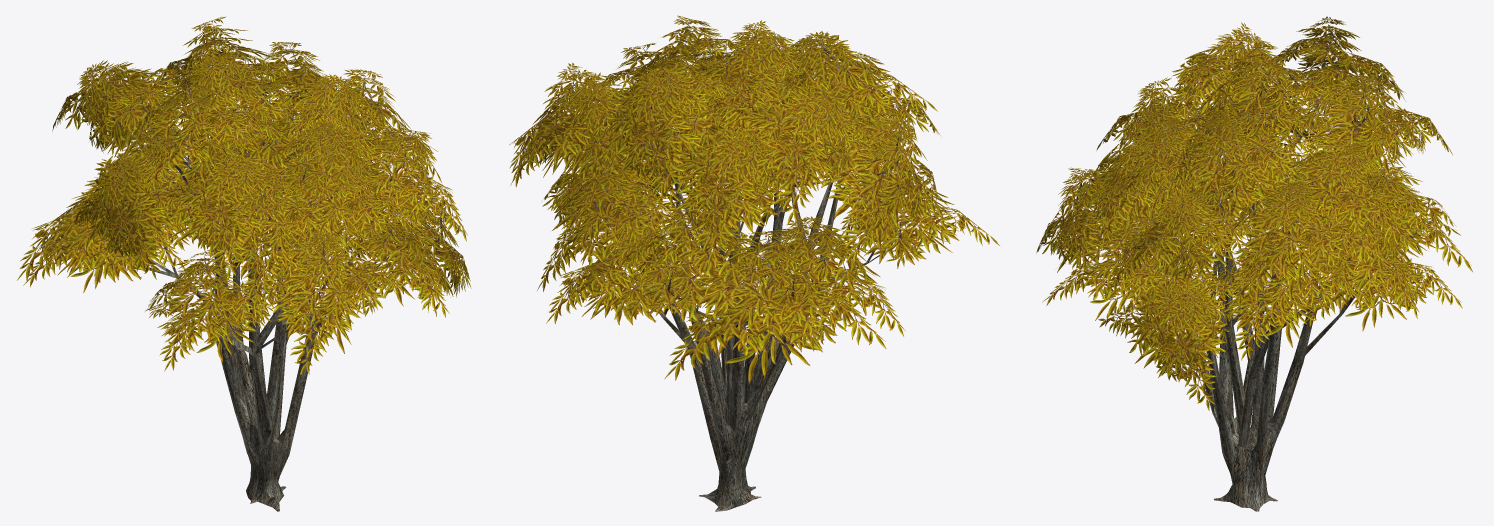
Rendered from tree3.gltf.
3 renders of one model, left to right at view 1: azimuth 30°, elevation 25°; view 2: azimuth 150°, elevation 25°; view 3: azimuth 270°, elevation 25°, orthographic. The views are drawn at different scales.
Parts seen in each view (by area): view 1: Tr-户外植物14A_01; view 2: Tr-户外植物14A_01; view 3: Tr-户外植物14A_01.
Part boxes in pixels (bbox=[...]): Tr-户外植物14A_01: bbox=[17, 16, 471, 511]; Tr-户外植物14A_01: bbox=[509, 15, 999, 511]; Tr-户外植物14A_01: bbox=[1036, 16, 1472, 511].
Size of the model in its own units: 6.8 by 7.59 by 6.99.
Materials: 1 (1 with a texture image).
